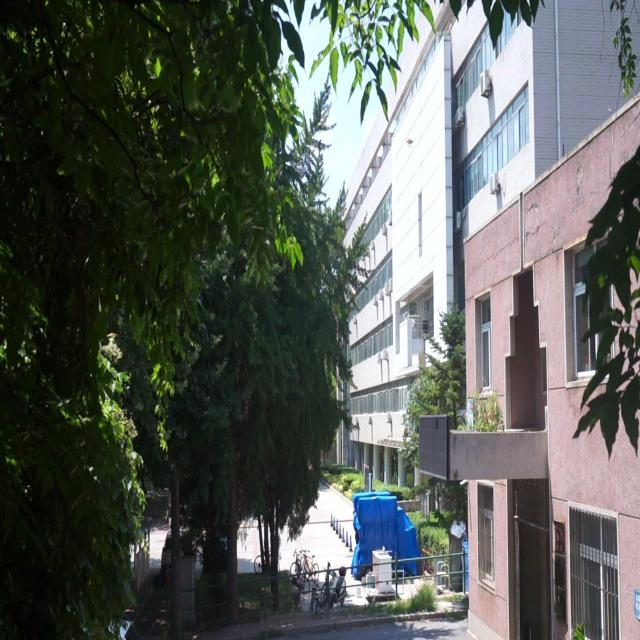drone: (402, 131, 416, 151)
